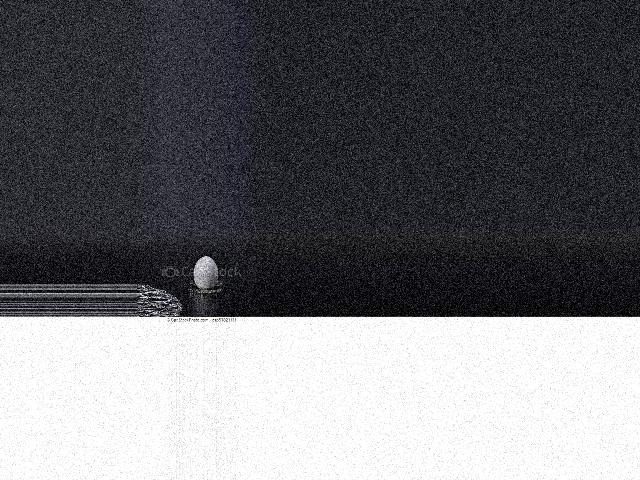egg: (193, 256, 218, 290)
